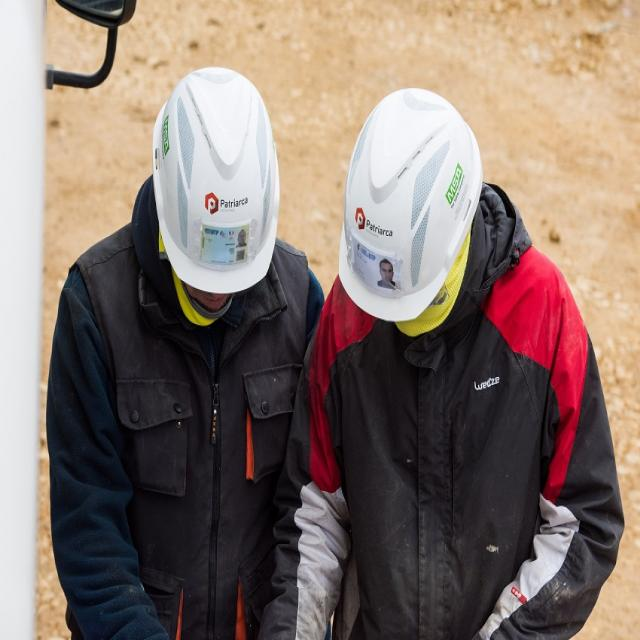helmet: (136, 57, 291, 303), (334, 80, 488, 316)
